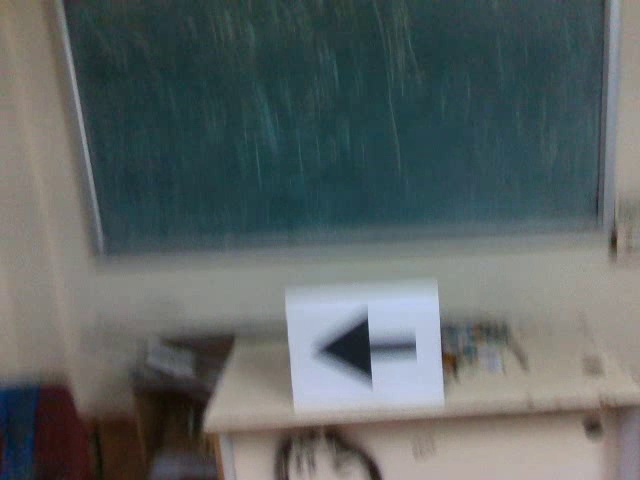Left: (306, 306, 425, 387)
